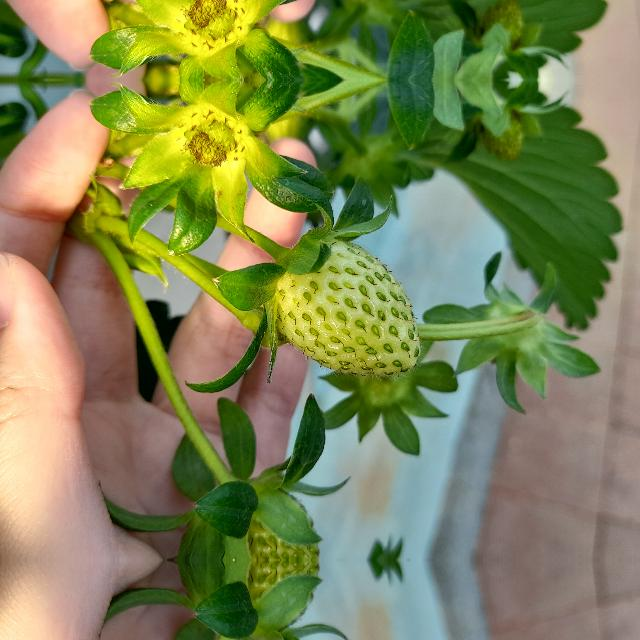Health_25: (276, 237, 426, 381)
